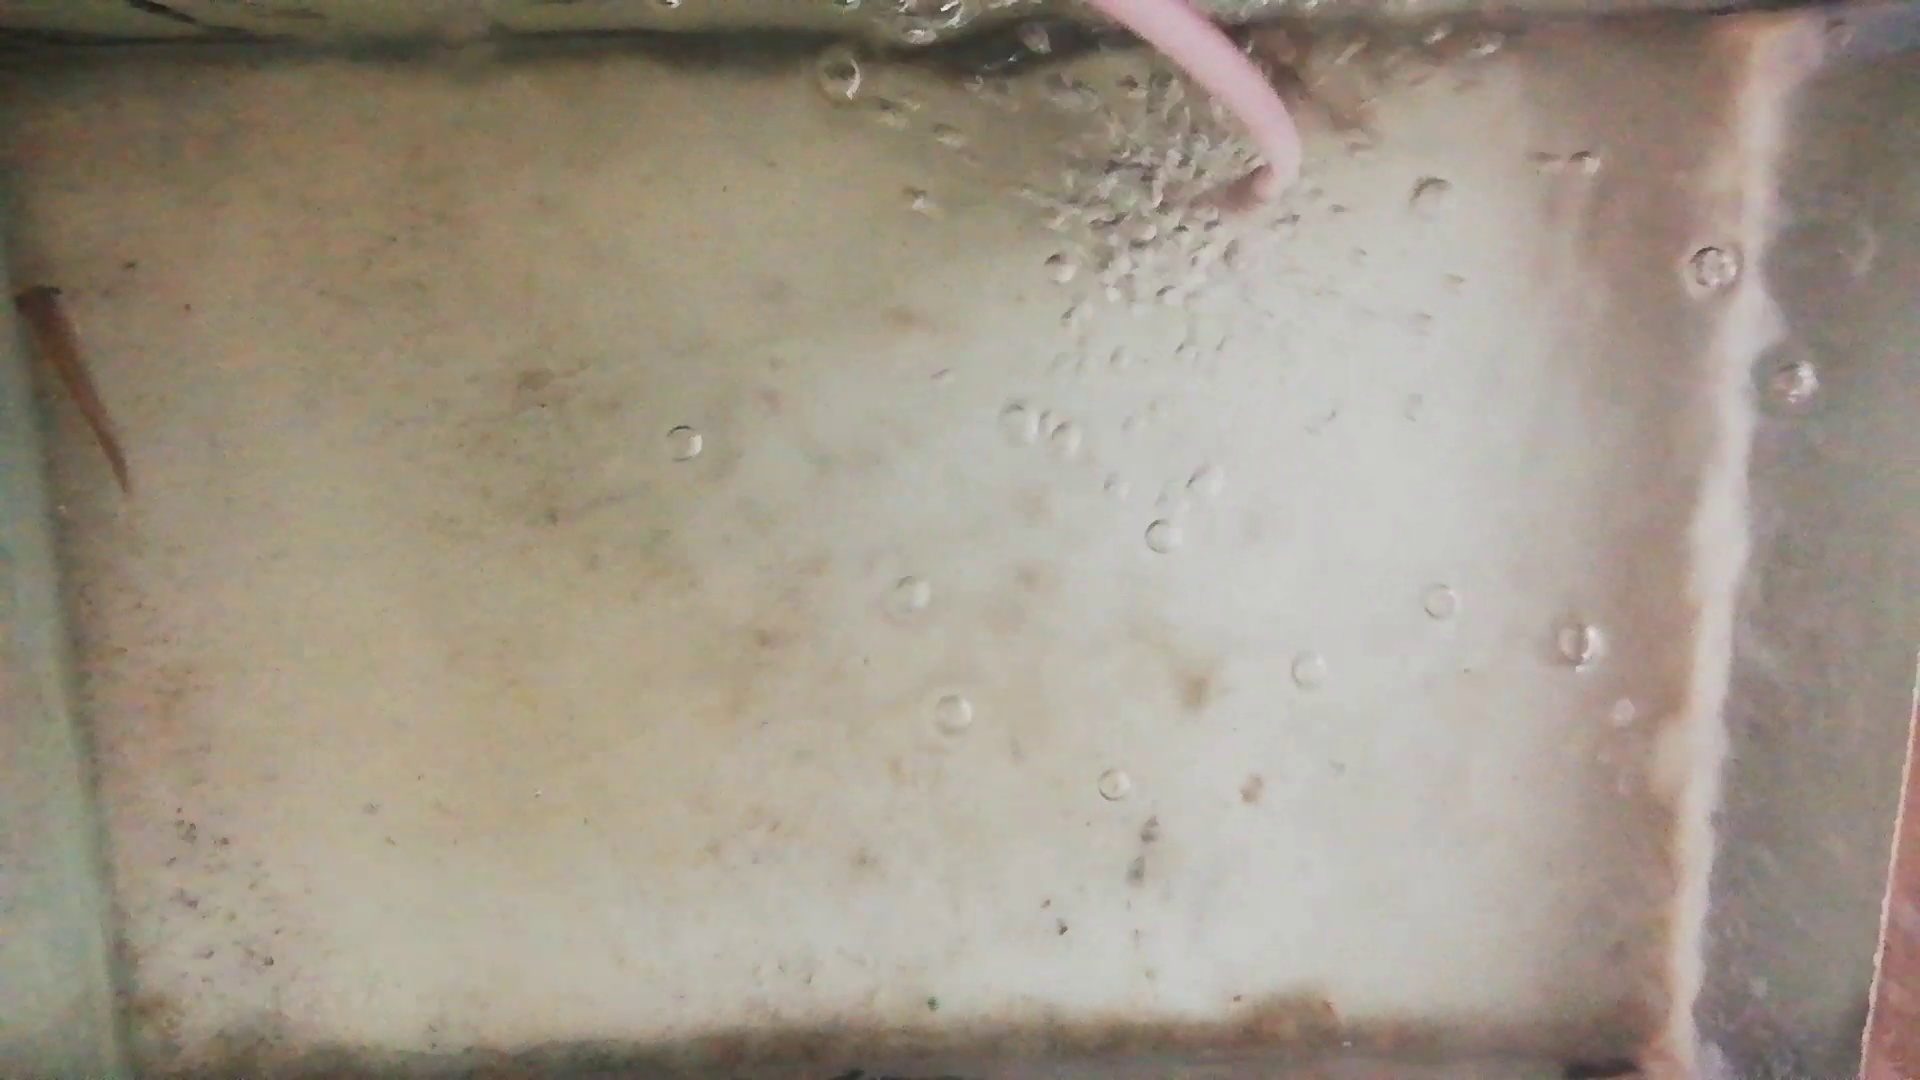fish: (15, 276, 132, 488), (1230, 34, 1333, 98)
